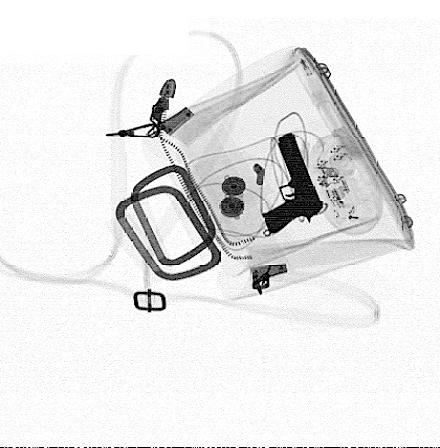Gun: (261, 132, 323, 235)
